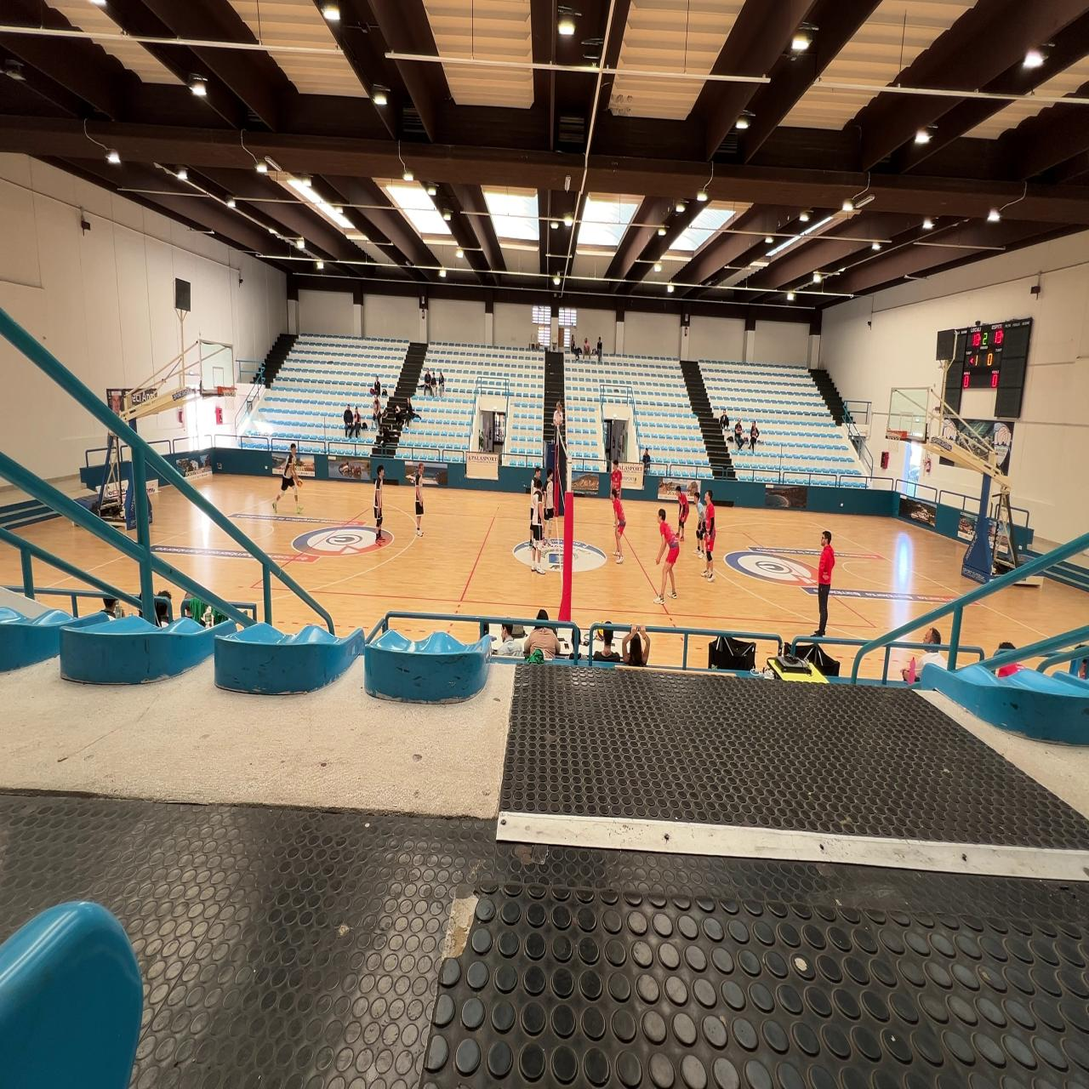ball: (297, 479, 302, 488)
